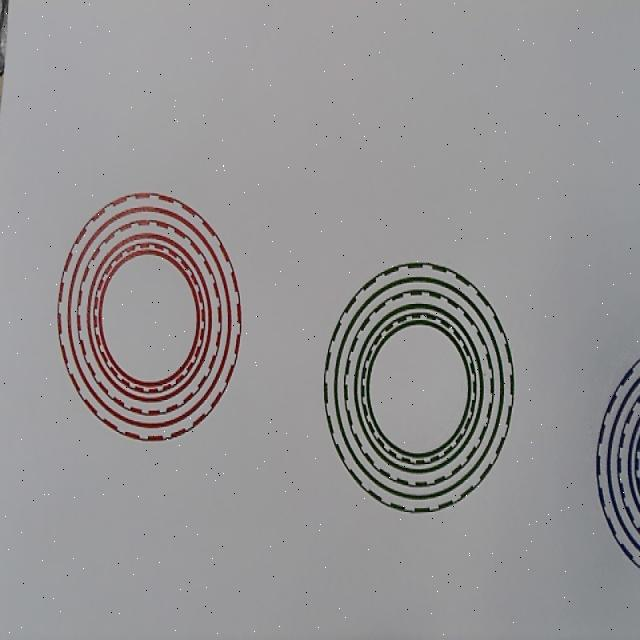g: (322, 261, 514, 514)
red-green-blue: (57, 193, 242, 442)
